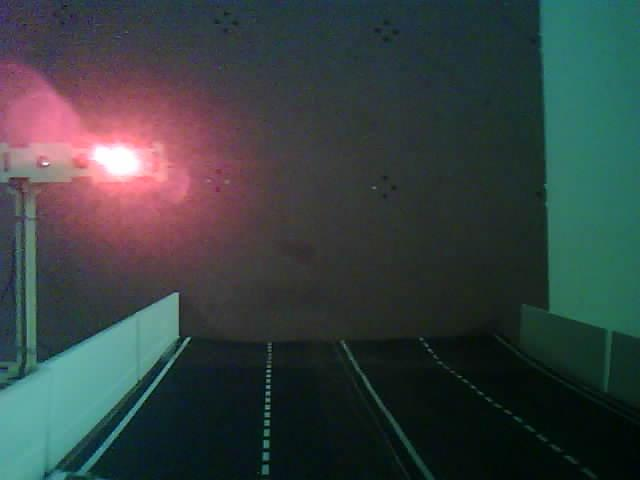crosswalk: (30, 459, 140, 480)
red: (0, 62, 206, 239)
